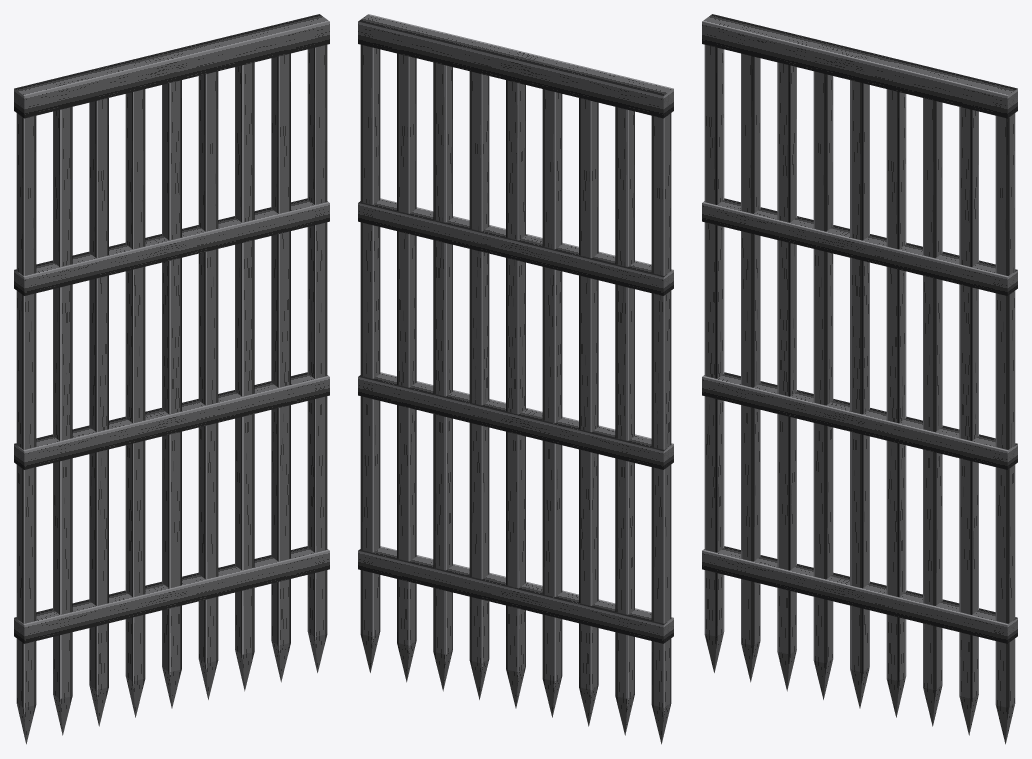
Rendered from gitter_breit.glb.
3 views of the same model, side by side, from view 1: azimuth 30°, elevation 25°; view 2: azimuth 150°, elevation 25°; view 3: azimuth 330°, elevation 25° (orthographic).
Visible parts, largest first — view 1: gitter_breit; view 2: gitter_breit; view 3: gitter_breit.
Part boxes in pixels (box(x1,y1,x2,y2)): gitter_breit: box(14, 14, 329, 744); gitter_breit: box(358, 14, 673, 744); gitter_breit: box(702, 14, 1017, 744).
Size of the model in its own units: 1.71 by 3.5 by 0.1.
Materials: 1 (1 with a texture image).
